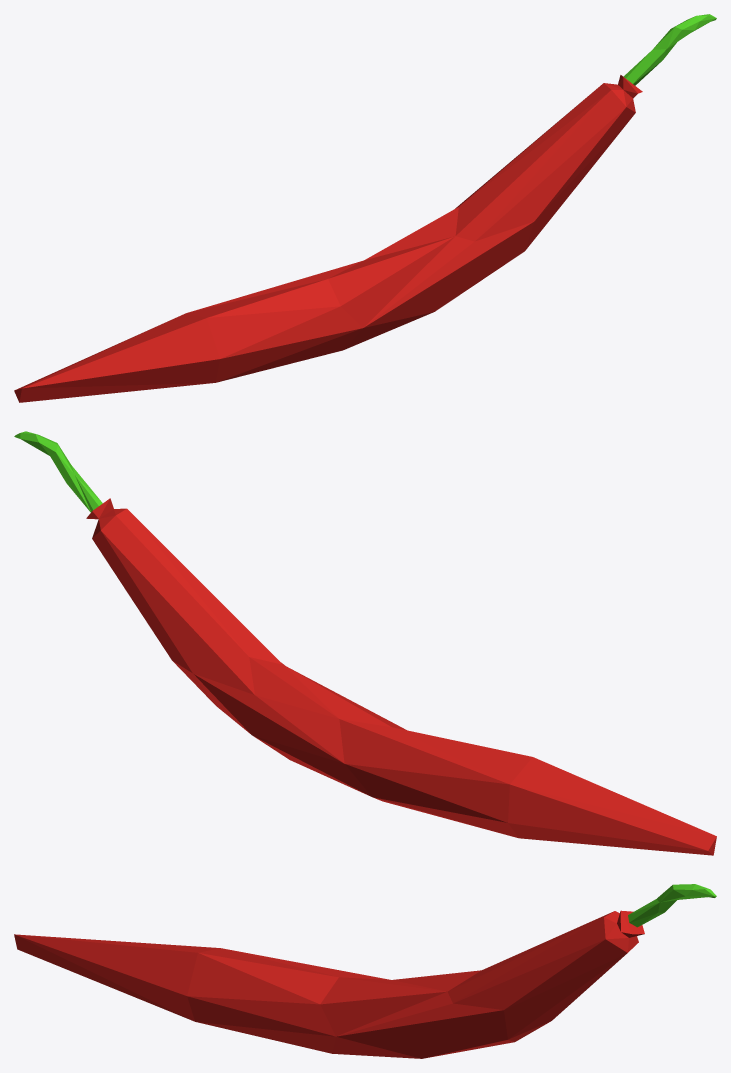
File: Biber.fbx
3 views of the same model, one above another, from view 1: azimuth 30°, elevation 25°; view 2: azimuth 150°, elevation 25°; view 3: azimuth 330°, elevation 25° (orthographic). The views are drawn at different scales.
Parts seen in each view (by area): view 1: Cylinder, Cylinder.001; view 2: Cylinder, Cylinder.001; view 3: Cylinder, Cylinder.001.
Part boxes in pixels (x1,y1,x2,y2): Cylinder: (14, 75, 642, 402); Cylinder.001: (623, 14, 716, 85); Cylinder: (86, 498, 716, 855); Cylinder.001: (14, 431, 102, 512); Cylinder: (14, 910, 644, 1058); Cylinder.001: (628, 884, 716, 927).
Size of the model in its own units: 43.68 by 15.66 by 4.78.
